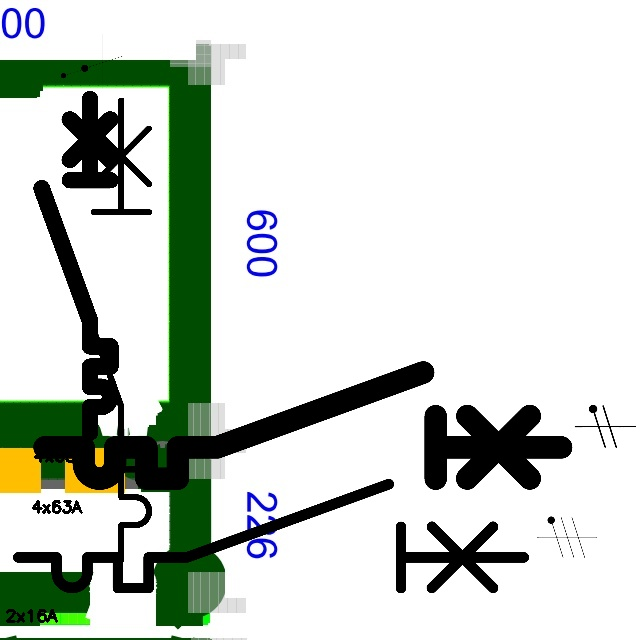interruptor_termomagnetico: (31, 359, 574, 492), (5, 471, 537, 601), (43, 88, 161, 571), (33, 90, 119, 441)
